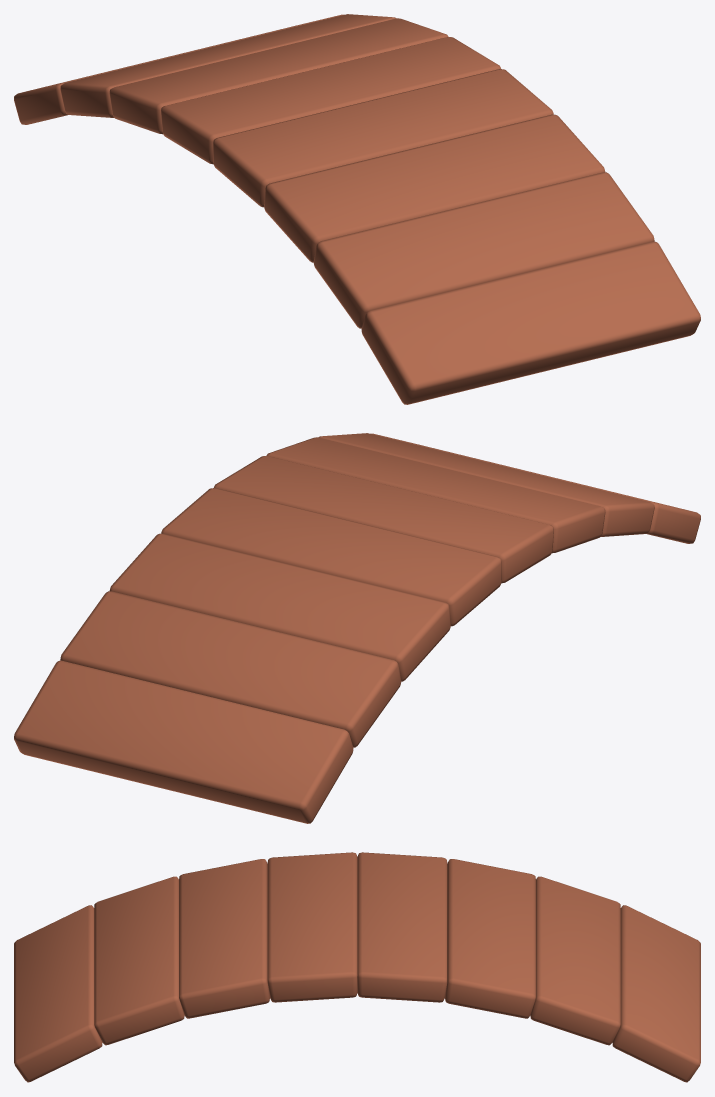
Rendered from Bridge_02.fbx.
The picture shows the model from 3 angles, top to bottom: view 1: azimuth 30°, elevation 25°; view 2: azimuth 150°, elevation 25°; view 3: azimuth 270°, elevation 25°; orthographic projection. The views are drawn at different scales.
Visible parts, largest first — view 1: Bridge_02; view 2: Bridge_02; view 3: Bridge_02.
Boxes of the visible parts, <box> form: Bridge_02: <box>14,14,700,404</box>; Bridge_02: <box>14,433,700,823</box>; Bridge_02: <box>14,852,700,1082</box>.
Size of the model in its own units: 4097 by 1718 by 9681.
